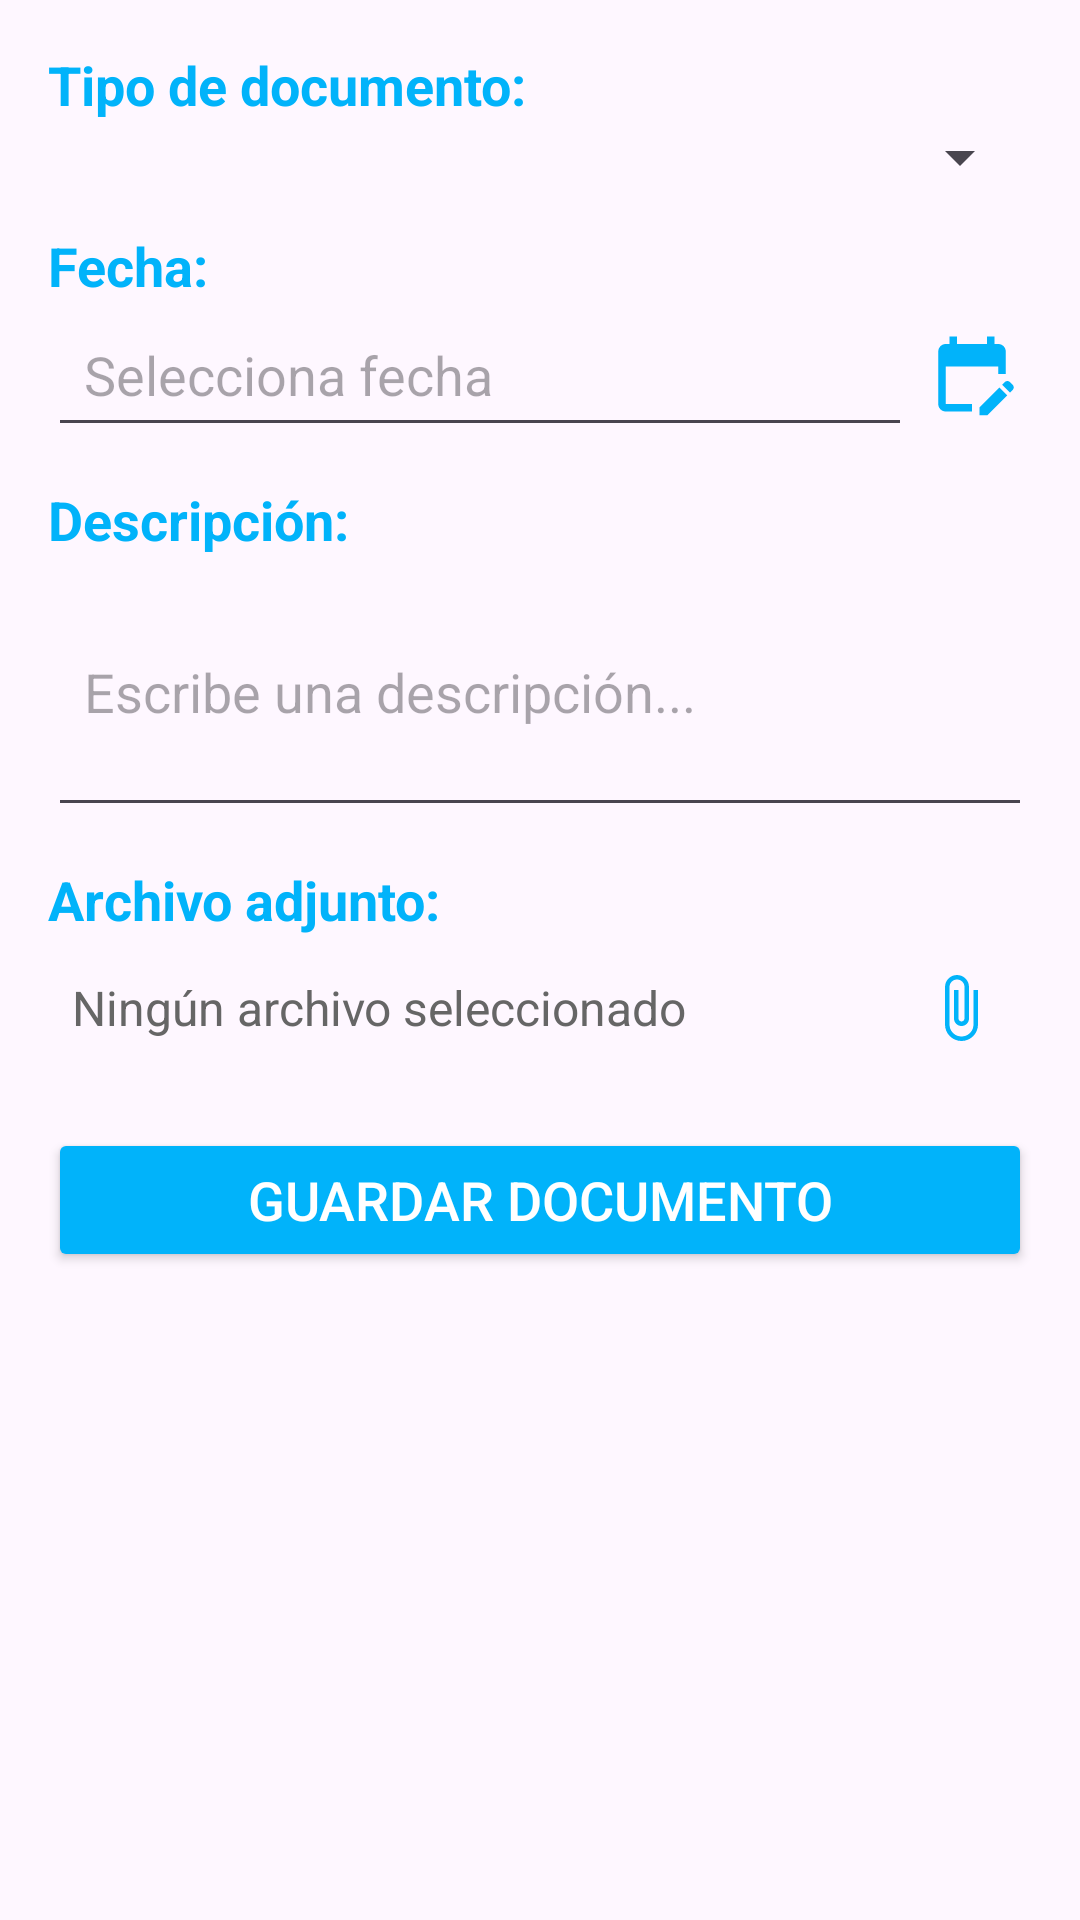

Where icons sit on this 1080*1920 app screen, as (left=x1, top=y1, right=x2, bottom=y2):
Abrir calendario: (left=938, top=336, right=1014, bottom=416)
Adjuntar archivo: (left=945, top=975, right=978, bottom=1041)
